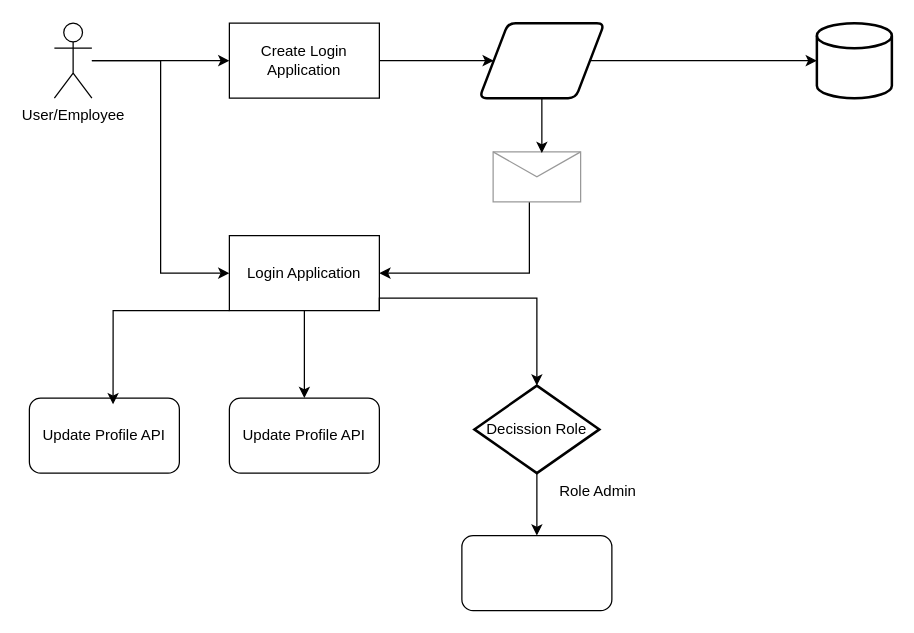
The diagram is 914 pixels wide and 633 high, and some of its shapes have lost their labels. The shapes that lost their labels are listed below. From the top down, each one's box as (x1, y1, x2, y2) in pixels, then its label:
(478, 21, 605, 99): Data Registrasi
(492, 151, 581, 202): Email Activation
(461, 534, 612, 611): Api Kendaraan
